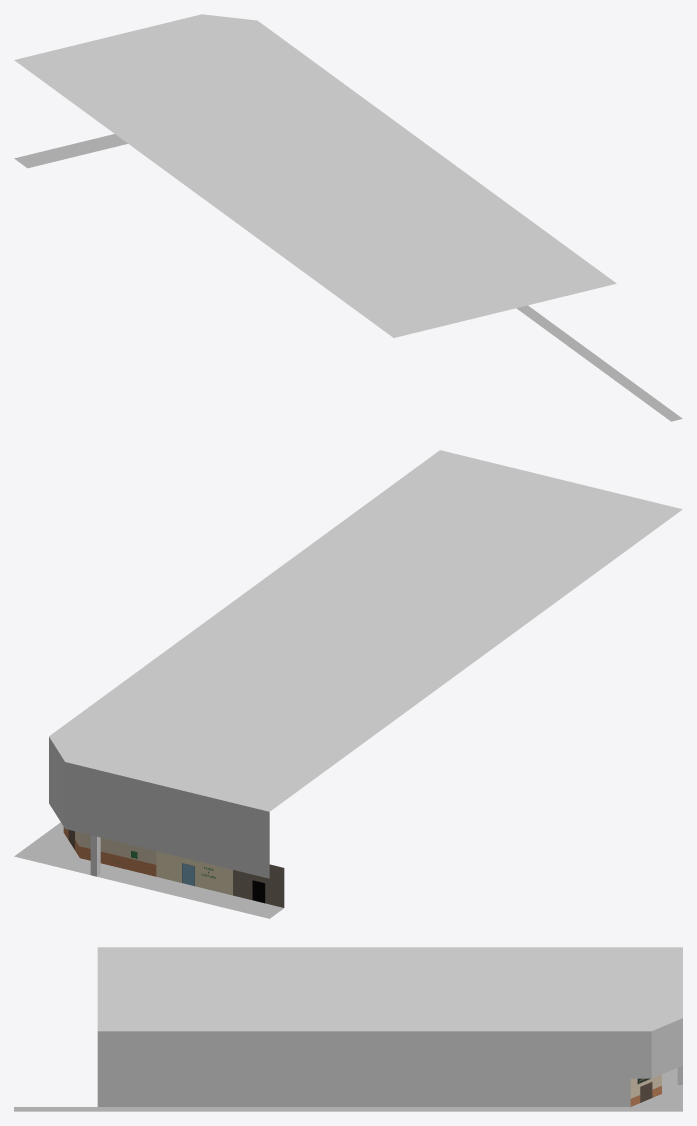
File: irish.glb
The picture shows the model from 3 angles, top to bottom: view 1: azimuth 30°, elevation 25°; view 2: azimuth 150°, elevation 25°; view 3: azimuth 270°, elevation 25°; orthographic projection. The views are drawn at different scales.
Parts seen in each view (by area): view 1: Buildings, Sidewalk; view 2: Buildings, Sidewalk; view 3: Buildings, Sidewalk.
Part boxes in pixels (x1,y1,x2,y2): Buildings: (14,14,616,337); Sidewalk: (14,134,682,421); Buildings: (49,450,682,907); Sidewalk: (14,822,283,918); Buildings: (97,947,682,1106); Sidewalk: (14,1068,682,1111).
Bounding box in the file's own units: 20 × 8 × 64.
5 materials, 2 textured.
